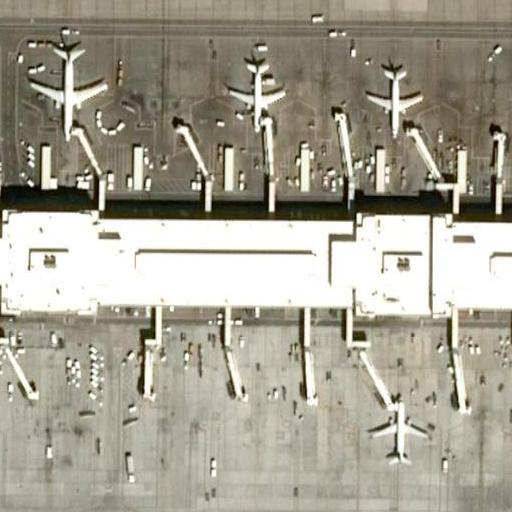Aircraft: (29, 35, 112, 136), (224, 53, 291, 131), (367, 392, 435, 468), (364, 61, 423, 133)
